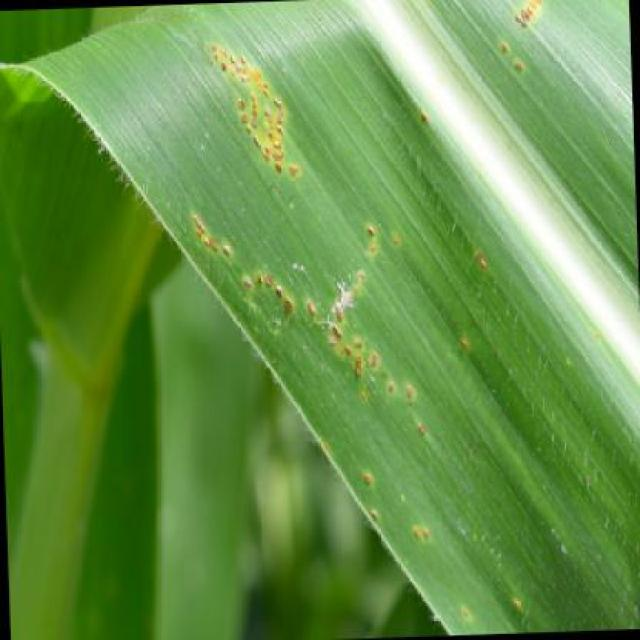Corn_Rust: (100, 5, 596, 519)
